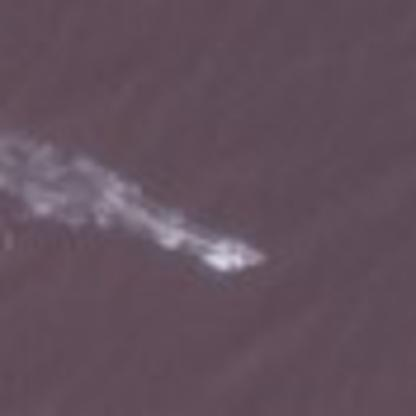ship: (199, 228, 270, 280)
